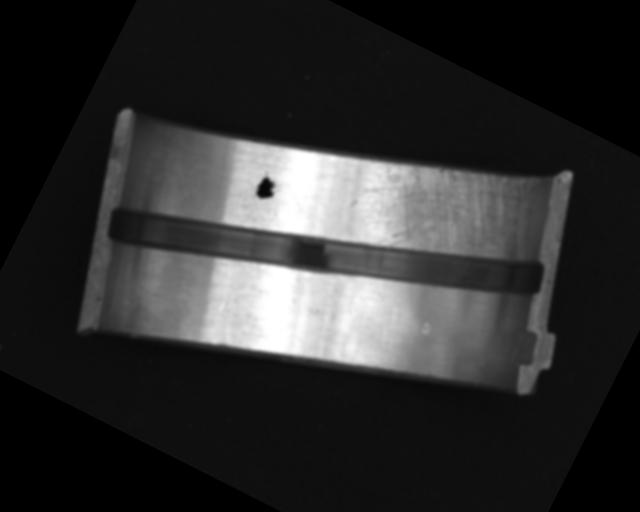blot: (250, 169, 284, 205)
bruise: (419, 318, 434, 336)
gap: (98, 80, 548, 420)
nick: (209, 259, 244, 311)
scratch: (338, 114, 540, 302)
